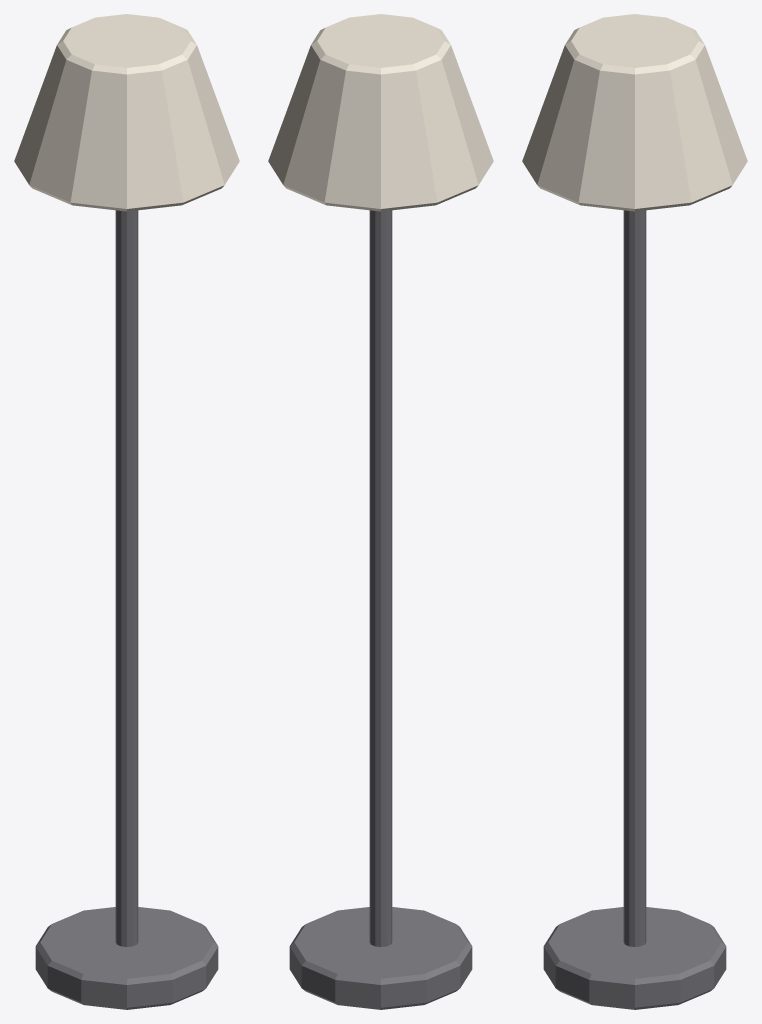
File: SM_Floor_Lamp.fbx
The picture shows the model from 3 angles, left to right: view 1: azimuth 30°, elevation 25°; view 2: azimuth 150°, elevation 25°; view 3: azimuth 270°, elevation 25°; orthographic projection.
Parts seen in each view (by area): view 1: Floor_Lamp; view 2: Floor_Lamp; view 3: Floor_Lamp.
Boxes of the visible parts, x1=… form: Floor_Lamp: x1=14, y1=14, x2=239, y2=1009; Floor_Lamp: x1=268, y1=14, x2=493, y2=1009; Floor_Lamp: x1=522, y1=14, x2=747, y2=1009.
Bounding box in the file's own units: 39.49 × 180 × 39.49.
